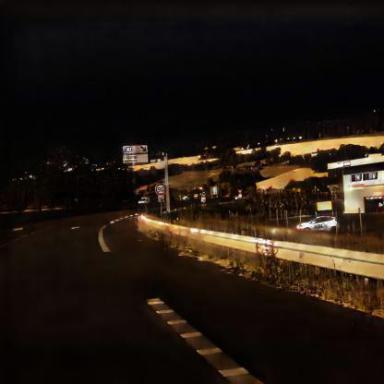Speed_limit_90: (155, 183, 166, 196)
